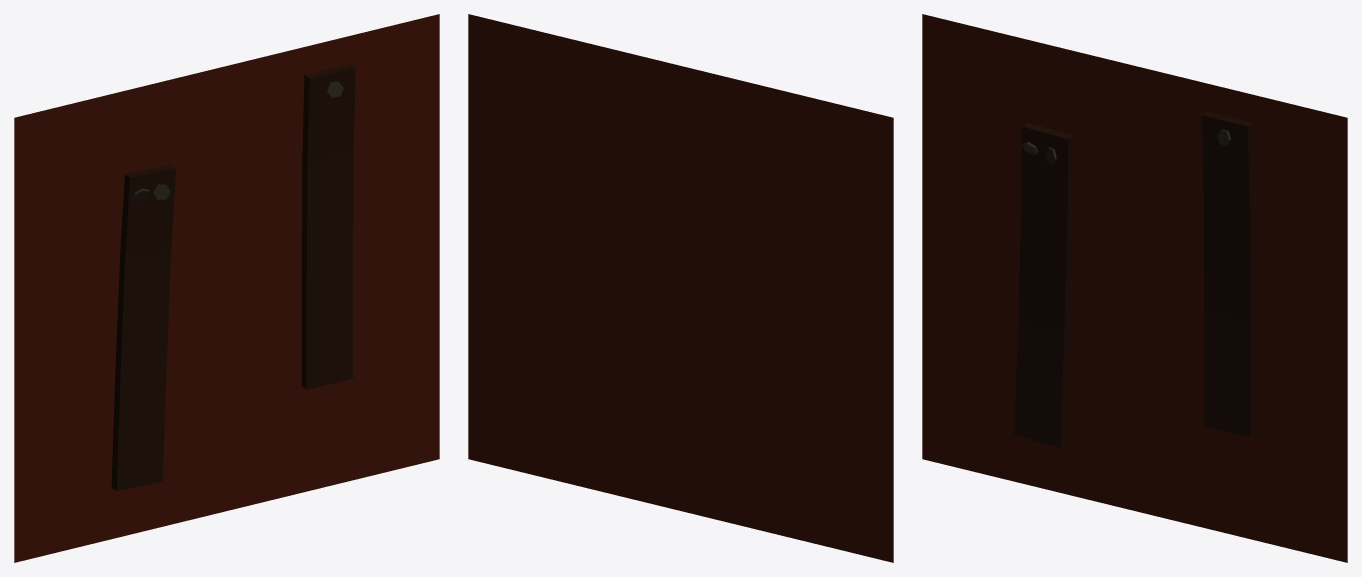
Rendered from FloorTile002.obj.
3 renders of one model, left to right at view 1: azimuth 30°, elevation 25°; view 2: azimuth 150°, elevation 25°; view 3: azimuth 330°, elevation 25°, orthographic.
Visible parts, largest first — view 1: Plane001.001, Box001.001, Box002.001; view 2: Plane001.001; view 3: Plane001.001, Box001.001, Box002.001.
Part boxes in pixels (x1=…): Plane001.001: x1=14, y1=14, x2=439, y2=562; Box001.001: x1=301, y1=63, x2=355, y2=389; Box002.001: x1=111, y1=164, x2=176, y2=490; Plane001.001: x1=468, y1=14, x2=893, y2=562; Plane001.001: x1=922, y1=14, x2=1347, y2=562; Box001.001: x1=1201, y1=111, x2=1255, y2=437; Box002.001: x1=1014, y1=122, x2=1073, y2=447.
Size of the model in its own units: 32 by 32 by 1.56.
